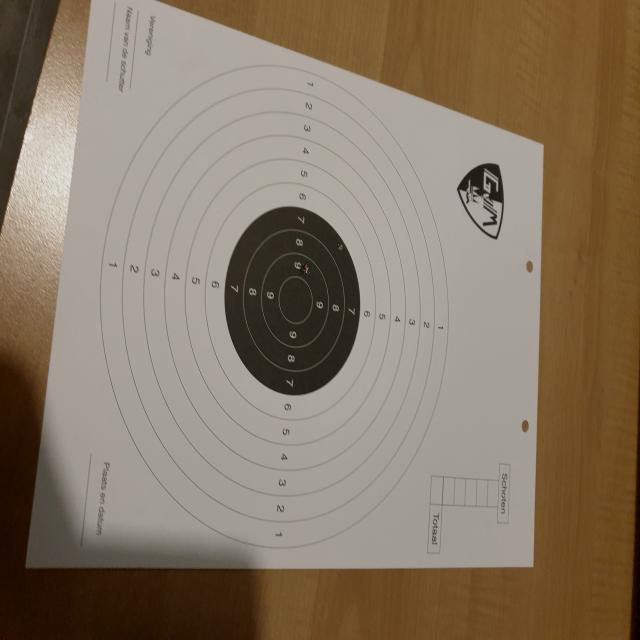7: (337, 243, 344, 253)
9: (298, 261, 311, 279)
Target: (100, 63, 449, 552)
black_contour: (224, 206, 360, 396)
